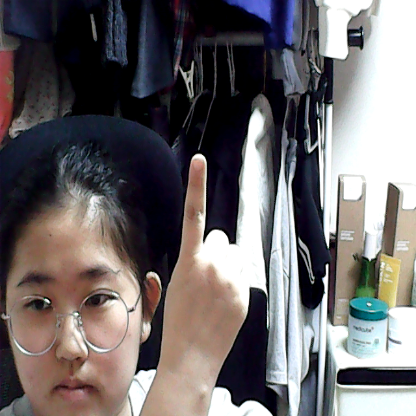Finger_1: (154, 143, 260, 380)
